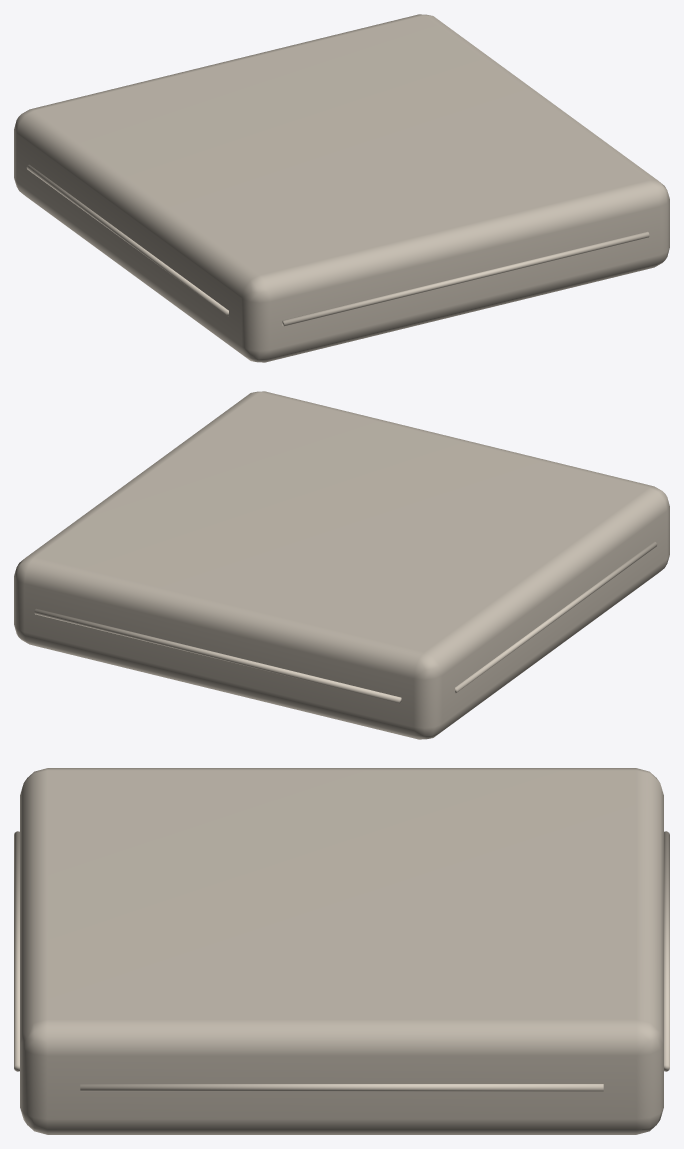
The model's file is almofada-linho.glb.
3 views of the same model, one above another, from view 1: azimuth 30°, elevation 25°; view 2: azimuth 150°, elevation 25°; view 3: azimuth 270°, elevation 25° (orthographic). The views are drawn at different scales.
Parts seen in each view (by area): view 1: Almofada interior, Pesponto lateral, Pesponto de canto; view 2: Almofada interior, Pesponto lateral.001, Pesponto de canto; view 3: Almofada interior, Pesponto de canto.001, Pesponto lateral, Pesponto lateral.001.
Boxes of the visible parts, box(x1,y1,x2,y2) form: Almofada interior: box(14, 14, 669, 362); Pesponto lateral: box(282, 231, 649, 326); Pesponto de canto: box(26, 164, 228, 316); Almofada interior: box(14, 391, 669, 739); Pesponto lateral.001: box(34, 608, 401, 703); Pesponto de canto: box(455, 541, 657, 693); Almofada interior: box(20, 768, 663, 1134); Pesponto de canto.001: box(80, 1084, 603, 1091); Pesponto lateral: box(14, 831, 19, 1071); Pesponto lateral.001: box(664, 831, 669, 1071).
Size of the model in its own units: 0.4145 by 0.0792 by 0.4172.
